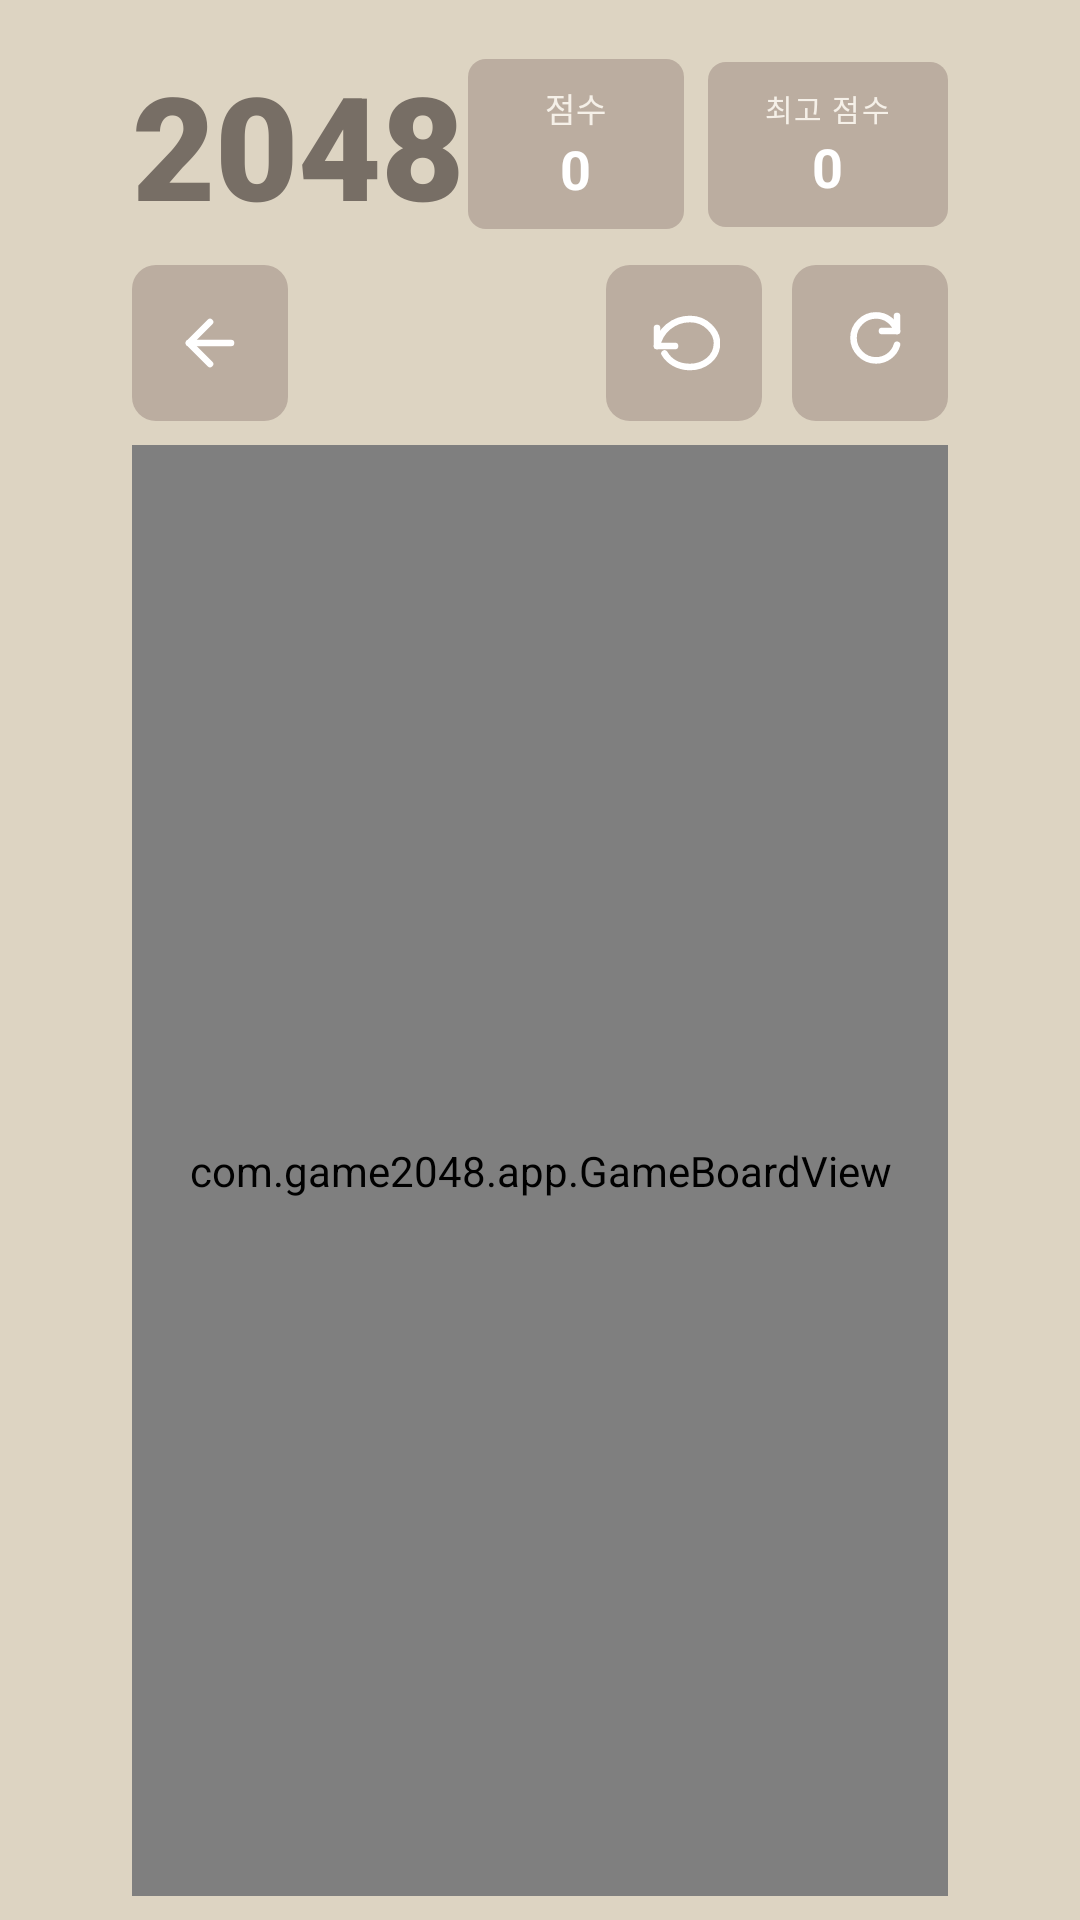

Named icons in this screenshot (1080×1920) and their bounding boxes, BBox(x1, y1, x2, y2):
되돌리기: BBox(606, 265, 762, 421)
메뉴로: BBox(132, 265, 288, 421)
